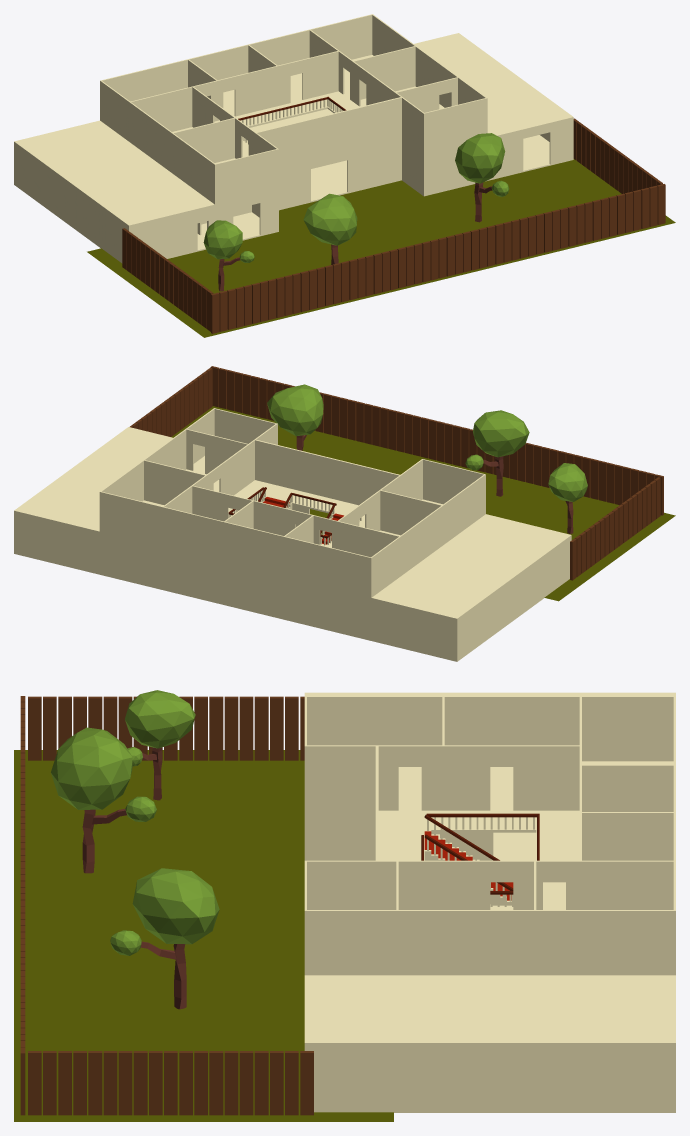
The model's file is manor.gltf.
The picture shows the model from 3 angles, top to bottom: view 1: azimuth 30°, elevation 25°; view 2: azimuth 150°, elevation 25°; view 3: azimuth 270°, elevation 25°; orthographic projection. The views are drawn at different scales.
Parts seen in each view (by area): view 1: Main structure, Plane, Cube.002, Cube.001, Tree.001, Tree, Tree.002, Plane.027; view 2: Main structure, Cube.002, Plane, Cube.001, Tree, Tree.001, Tree.002; view 3: Main structure, Plane, Cube.001, Tree.001, Tree, Tree.002, Cube.002, Plane.026, Plane.029, Plane.024.
Boxes of the visible parts, x1,y1,x2,y2 form: Main structure: [14, 14, 573, 263]; Plane: [87, 159, 675, 337]; Cube.002: [211, 184, 665, 333]; Cube.001: [122, 118, 662, 331]; Tree.001: [455, 133, 509, 222]; Tree: [303, 193, 357, 264]; Tree.002: [203, 220, 254, 291]; Plane.027: [238, 97, 328, 125]; Main structure: [14, 408, 571, 661]; Cube.002: [210, 366, 663, 515]; Plane: [171, 406, 675, 601]; Cube.001: [130, 367, 660, 580]; Tree: [465, 410, 529, 496]; Tree.001: [267, 384, 323, 450]; Tree.002: [548, 463, 587, 534]; Main structure: [304, 692, 675, 1112]; Plane: [14, 750, 393, 1121]; Cube.001: [28, 696, 313, 1115]; Tree.001: [110, 868, 219, 1009]; Tree: [51, 727, 156, 873]; Tree.002: [125, 690, 195, 800]; Cube.002: [20, 696, 25, 1115]; Plane.026: [426, 813, 539, 906]; Plane.029: [424, 814, 513, 901]; Plane.024: [424, 830, 513, 905].
Size of the model in its own units: 38.39 by 6.86 by 28.89.
Materials: 8 (1 with a texture image).
